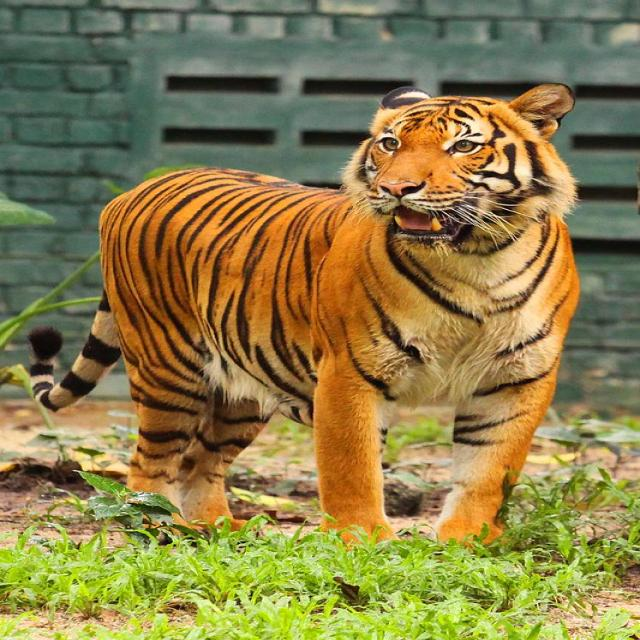Tiger: (26, 77, 586, 560)
